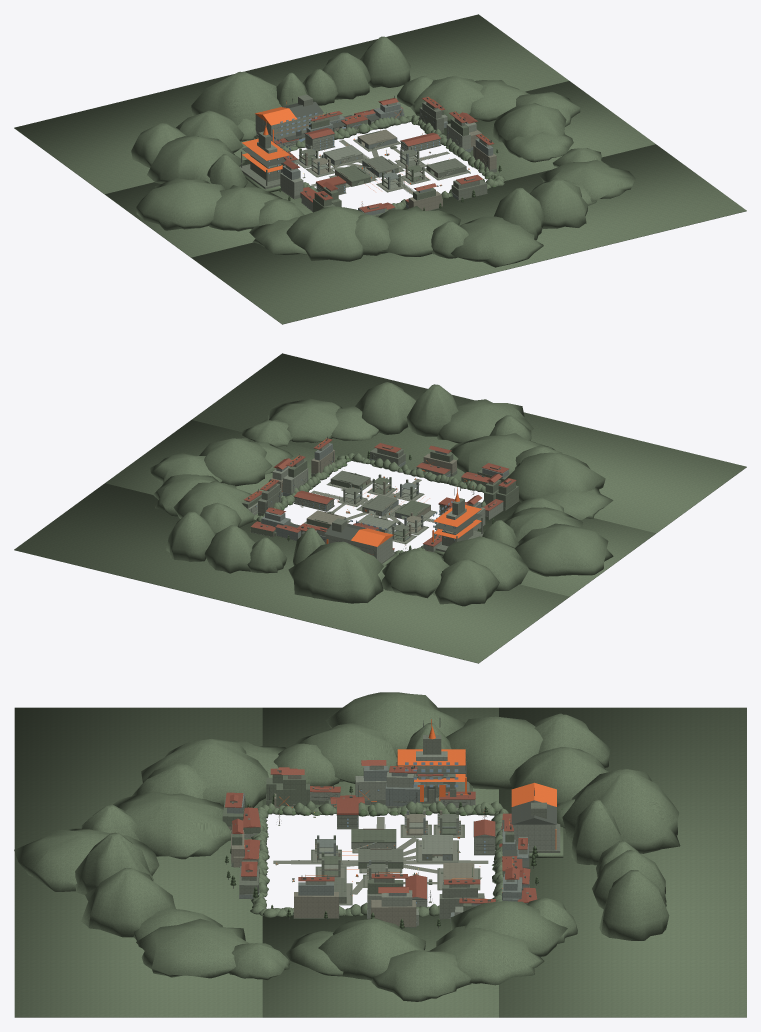
The model's file is renshujo-lod0.glb.
3 views of the same model, one above another, from view 1: azimuth 30°, elevation 25°; view 2: azimuth 150°, elevation 25°; view 3: azimuth 270°, elevation 25° (orthographic). The views are drawn at different scales.
Visible parts, largest first — view 1: HB_renshujo_LOD0_terrain, HB_renshujo_LOD0_wall_alt, HB_renshujo_LOD0_wall, HB_renshujo_LOD0_roof, HB_renshujo_LOD0_wall_weathered, HB_renshujo_LOD0_wall_warm, HB_renshujo_LOD0_wall_cool, HB_renshujo_LOD0_road, HB_renshujo_LOD0_trim, HB_renshujo_LOD0_LANDMARK_1_wall_alt, HB_renshujo_LOD0_LANDMARK_0_wall, HB_renshujo_LOD0_LANDMARK_1_accent (+1 smaller); view 2: HB_renshujo_LOD0_terrain, HB_renshujo_LOD0_wall_alt, HB_renshujo_LOD0_roof, HB_renshujo_LOD0_wall_weathered, HB_renshujo_LOD0_wall, HB_renshujo_LOD0_wall_cool, HB_renshujo_LOD0_wall_warm, HB_renshujo_LOD0_road, HB_renshujo_LOD0_LANDMARK_1_accent, HB_renshujo_LOD0_trim, HB_renshujo_LOD0_LANDMARK_1_wall_alt, HB_renshujo_LOD0_LANDMARK_0_wall (+1 smaller); view 3: HB_renshujo_LOD0_terrain, HB_renshujo_LOD0_roof, HB_renshujo_LOD0_wall_alt, HB_renshujo_LOD0_wall, HB_renshujo_LOD0_wall_weathered, HB_renshujo_LOD0_wall_warm, HB_renshujo_LOD0_wall_cool, HB_renshujo_LOD0_road, HB_renshujo_LOD0_trim, HB_renshujo_LOD0_LANDMARK_1_accent, HB_renshujo_LOD0_natural, HB_renshujo_LOD0_LANDMARK_0_wall (+3 smaller).
Part boxes in pixels (<box>): HB_renshujo_LOD0_terrain: <box>14,14,746,324</box>; HB_renshujo_LOD0_wall_alt: <box>278,97,496,211</box>; HB_renshujo_LOD0_wall: <box>276,102,489,211</box>; HB_renshujo_LOD0_roof: <box>273,96,494,212</box>; HB_renshujo_LOD0_wall_weathered: <box>299,110,468,216</box>; HB_renshujo_LOD0_wall_warm: <box>299,111,496,210</box>; HB_renshujo_LOD0_wall_cool: <box>281,102,493,215</box>; HB_renshujo_LOD0_road: <box>296,140,470,194</box>; HB_renshujo_LOD0_trim: <box>279,95,499,209</box>; HB_renshujo_LOD0_LANDMARK_1_wall_alt: <box>240,131,281,189</box>; HB_renshujo_LOD0_LANDMARK_0_wall: <box>255,113,322,140</box>; HB_renshujo_LOD0_LANDMARK_1_accent: <box>242,121,290,172</box>; HB_renshujo_LOD0_terrain: <box>14,353,746,663</box>; HB_renshujo_LOD0_wall_alt: <box>248,441,518,552</box>; HB_renshujo_LOD0_roof: <box>244,438,516,549</box>; HB_renshujo_LOD0_wall_weathered: <box>242,450,518,541</box>; HB_renshujo_LOD0_wall: <box>247,443,503,552</box>; HB_renshujo_LOD0_wall_cool: <box>246,443,508,543</box>; HB_renshujo_LOD0_wall_warm: <box>250,449,497,551</box>; HB_renshujo_LOD0_road: <box>301,477,473,551</box>; HB_renshujo_LOD0_LANDMARK_1_accent: <box>432,487,481,542</box>; HB_renshujo_LOD0_trim: <box>248,436,501,548</box>; HB_renshujo_LOD0_LANDMARK_1_wall_alt: <box>434,498,483,552</box>; HB_renshujo_LOD0_LANDMARK_0_wall: <box>325,534,392,562</box>; HB_renshujo_LOD0_terrain: <box>14,692,746,1017</box>; HB_renshujo_LOD0_roof: <box>224,760,537,903</box>; HB_renshujo_LOD0_wall_alt: <box>230,767,530,927</box>; HB_renshujo_LOD0_wall: <box>244,765,527,925</box>; HB_renshujo_LOD0_wall_weathered: <box>222,774,527,918</box>; HB_renshujo_LOD0_wall_warm: <box>228,775,512,926</box>; HB_renshujo_LOD0_wall_cool: <box>227,766,529,926</box>; HB_renshujo_LOD0_road: <box>273,816,488,905</box>; HB_renshujo_LOD0_trim: <box>226,765,536,928</box>; HB_renshujo_LOD0_LANDMARK_1_accent: <box>397,719,466,801</box>; HB_renshujo_LOD0_natural: <box>224,785,562,928</box>; HB_renshujo_LOD0_LANDMARK_0_wall: <box>513,824,555,850</box>.
Bounding box in the file's own units: 620 × 77.48 × 621.
Materials: 14 (12 with a texture image).
